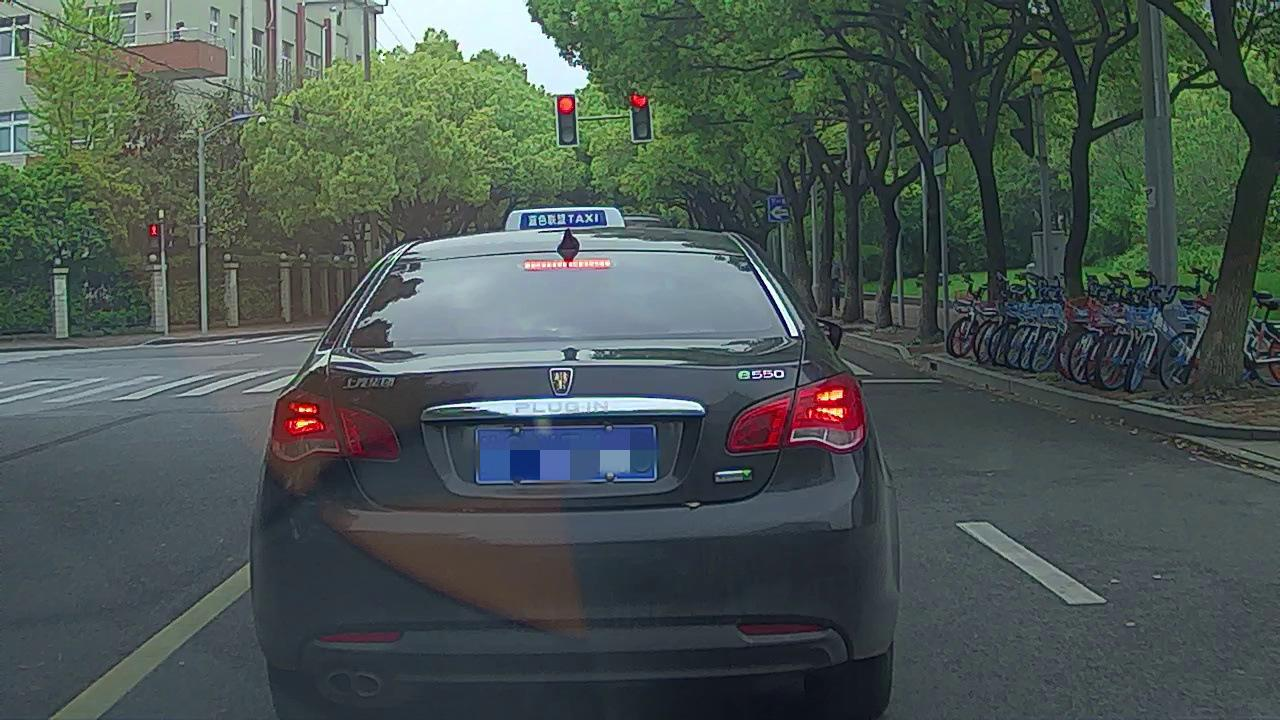traffic_light: (628, 92, 652, 142), (557, 93, 579, 145)
